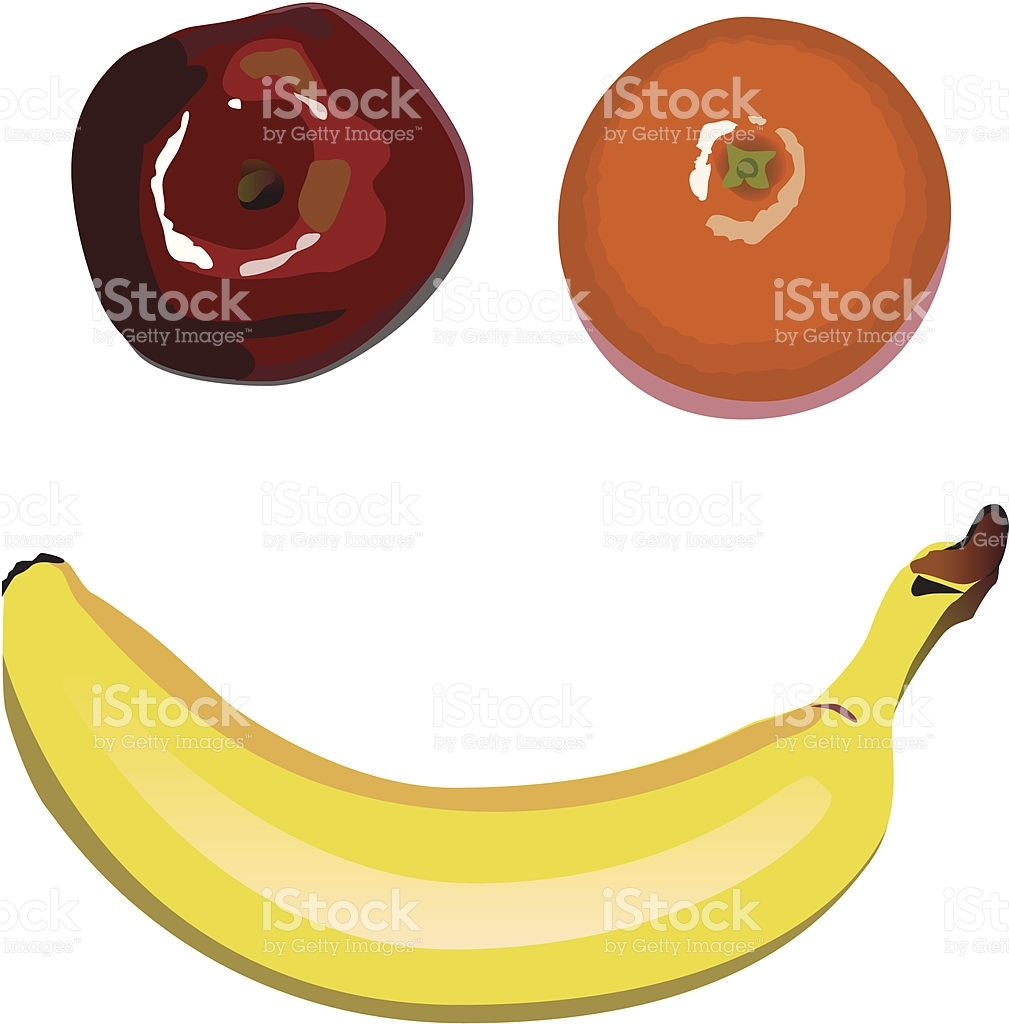apple: (80, 6, 481, 395)
banana: (1, 571, 923, 1006)
orange: (543, 17, 942, 430)
